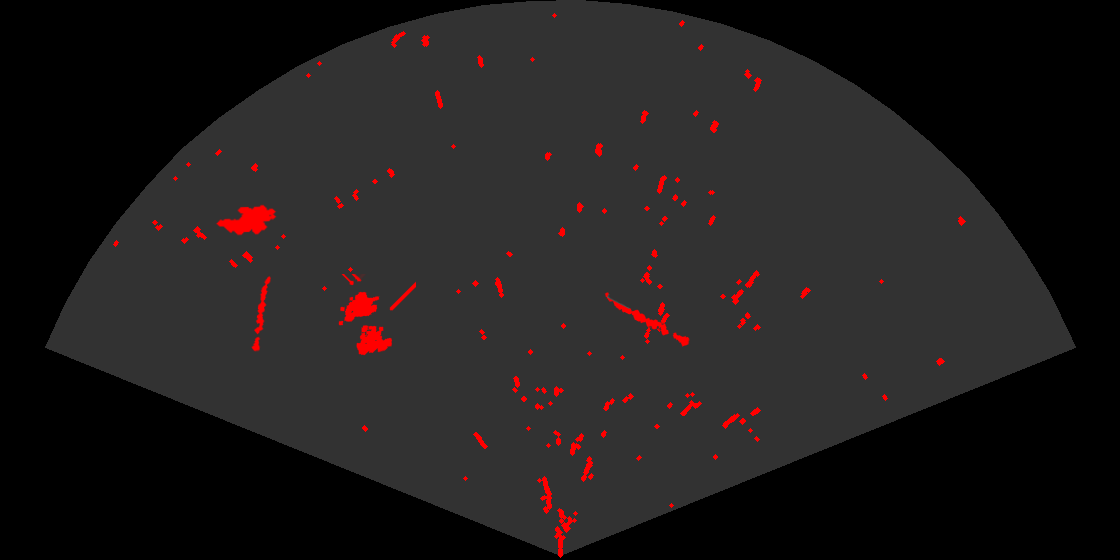AUV: (214, 203, 278, 237)
cage: (337, 274, 416, 357)
chain: (604, 291, 691, 348), (250, 274, 272, 352)
